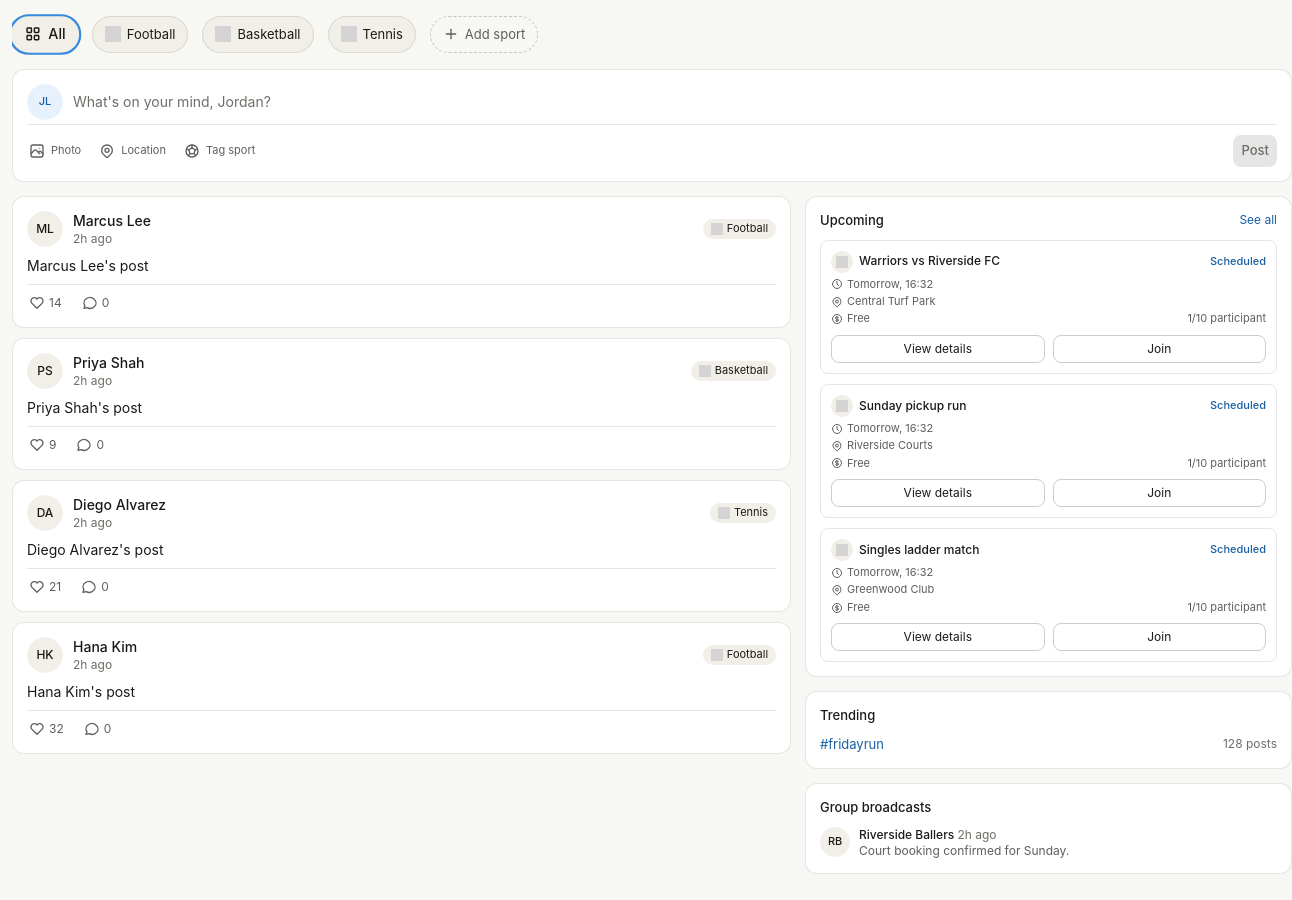
Test case: HomeFeedPage › like toggle increments through the hook and reverts on second click
Click the button named "Like" at (45, 303), box [27,293,64,313]
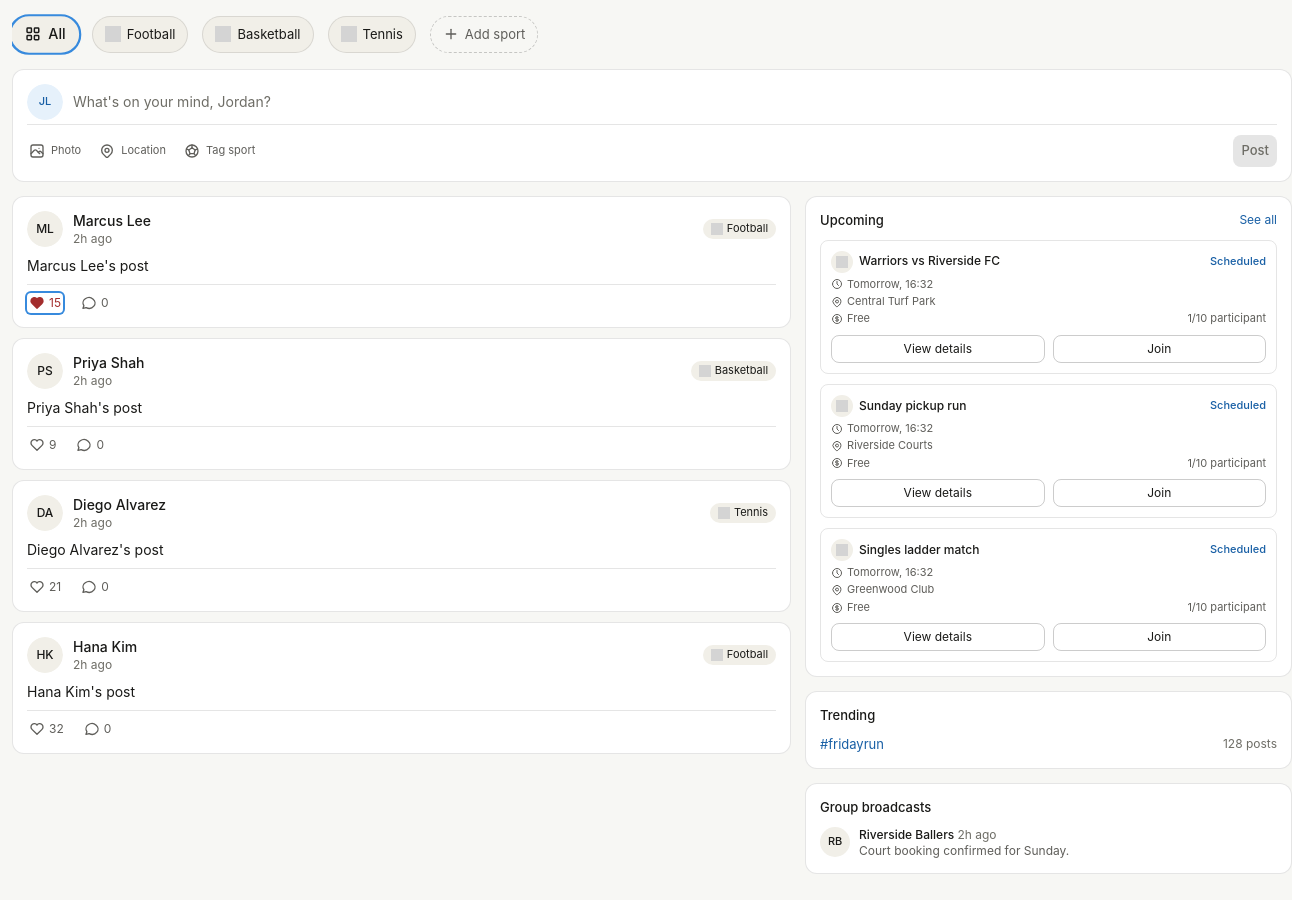
Result: the button named "Unlike" reads "15"
Click the button named "Unlike" at (45, 303), box [27,293,63,313]
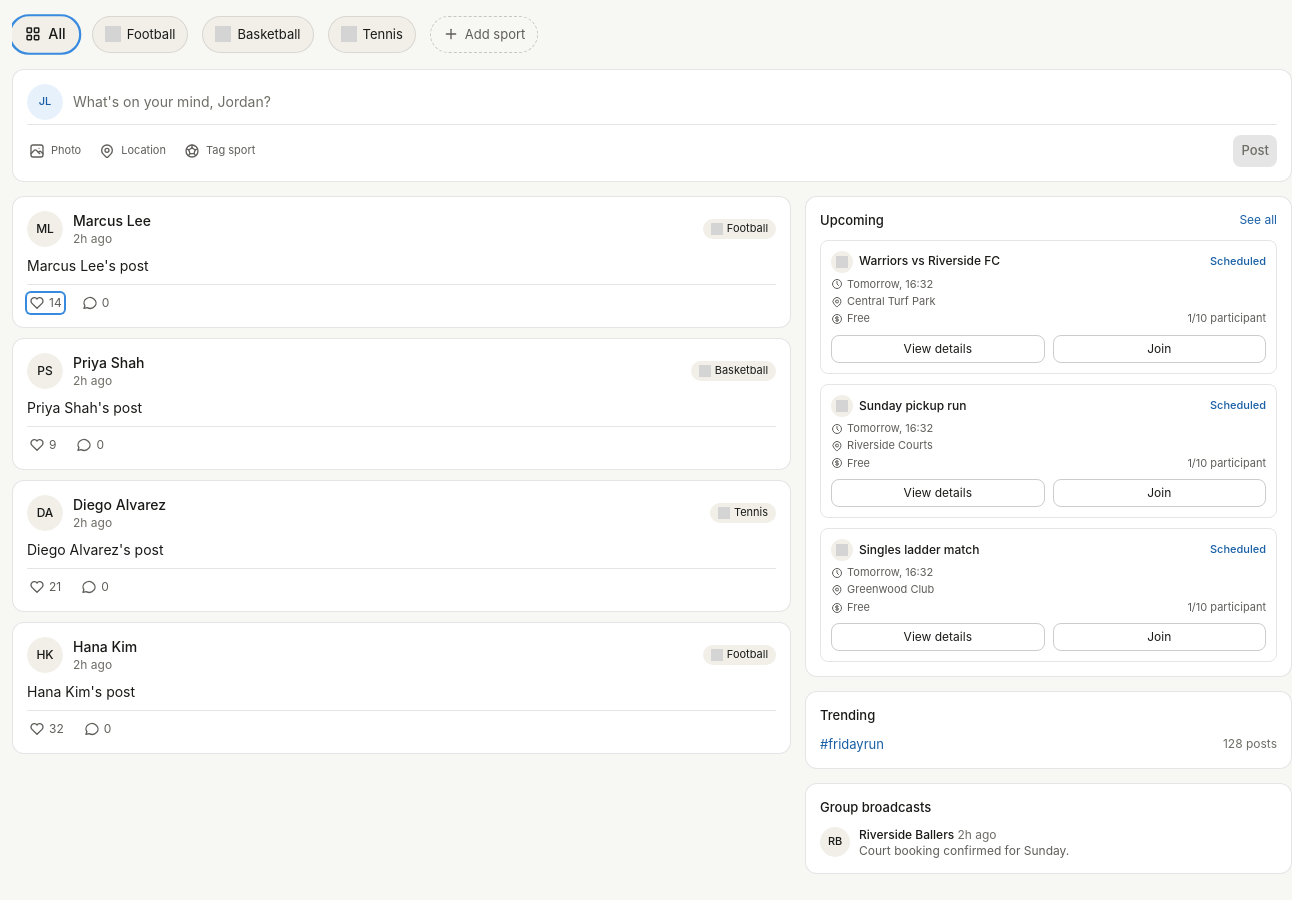
Result: the button named "Like" reads "14" at [27,293,64,313]
